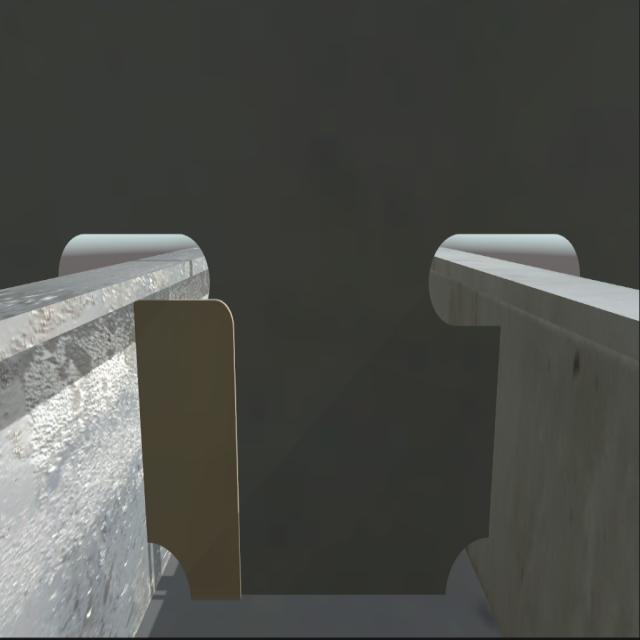fillet_hole: (148, 534, 190, 603), (448, 530, 491, 594)
fillet_yong_jeop_jang: (182, 582, 456, 608)
longi_yong_jeop_jang: (134, 287, 154, 539), (482, 320, 504, 533)
plate_CP05: (143, 302, 241, 598)
